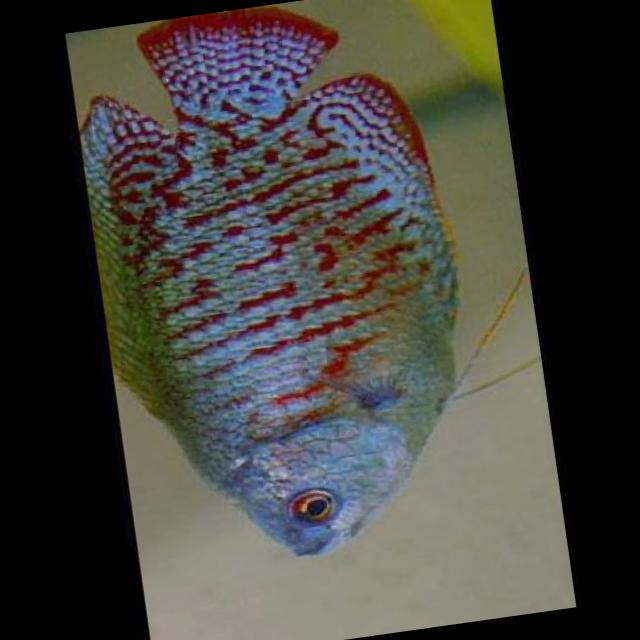Gourami: (62, 0, 502, 583)
